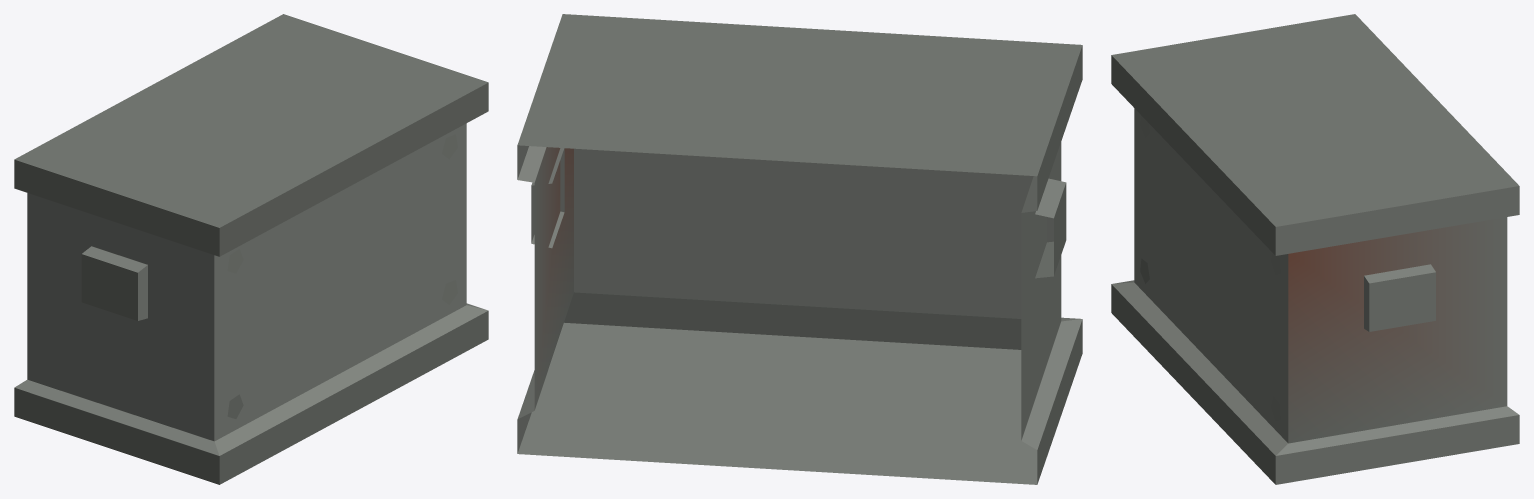
The model's file is MSH_QuestObject_container_01.fbx.
3 views of the same model, side by side, from view 1: azimuth 30°, elevation 25°; view 2: azimuth 150°, elevation 25°; view 3: azimuth 270°, elevation 25° (orthographic). The views are drawn at different scales.
Visible parts, largest first — view 1: MSH_QuestObject_container_01; view 2: MSH_QuestObject_container_01; view 3: MSH_QuestObject_container_01.
Part boxes in pixels (bbox=[...]): MSH_QuestObject_container_01: bbox=[14, 14, 488, 484]; MSH_QuestObject_container_01: bbox=[517, 14, 1082, 484]; MSH_QuestObject_container_01: bbox=[1111, 14, 1519, 484].
Size of the model in its own units: 1.89 by 1.06 by 1.53.
